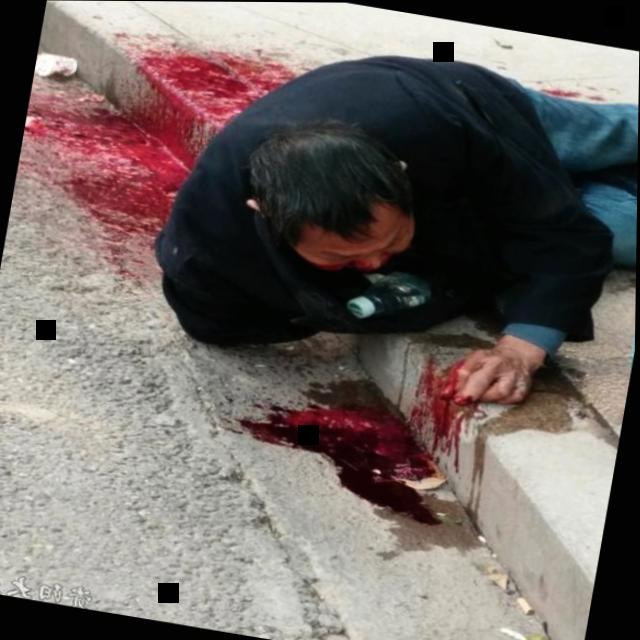Fall-Detected: (123, 1, 640, 460)
